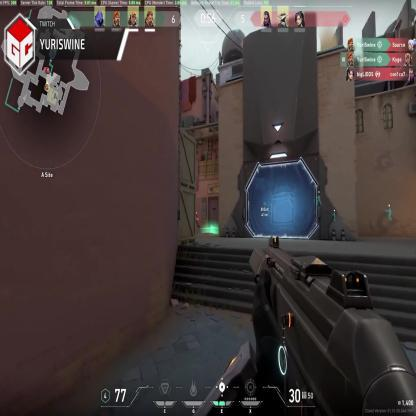enemy: (192, 208, 200, 233)
enemy_head: (194, 210, 198, 216)
